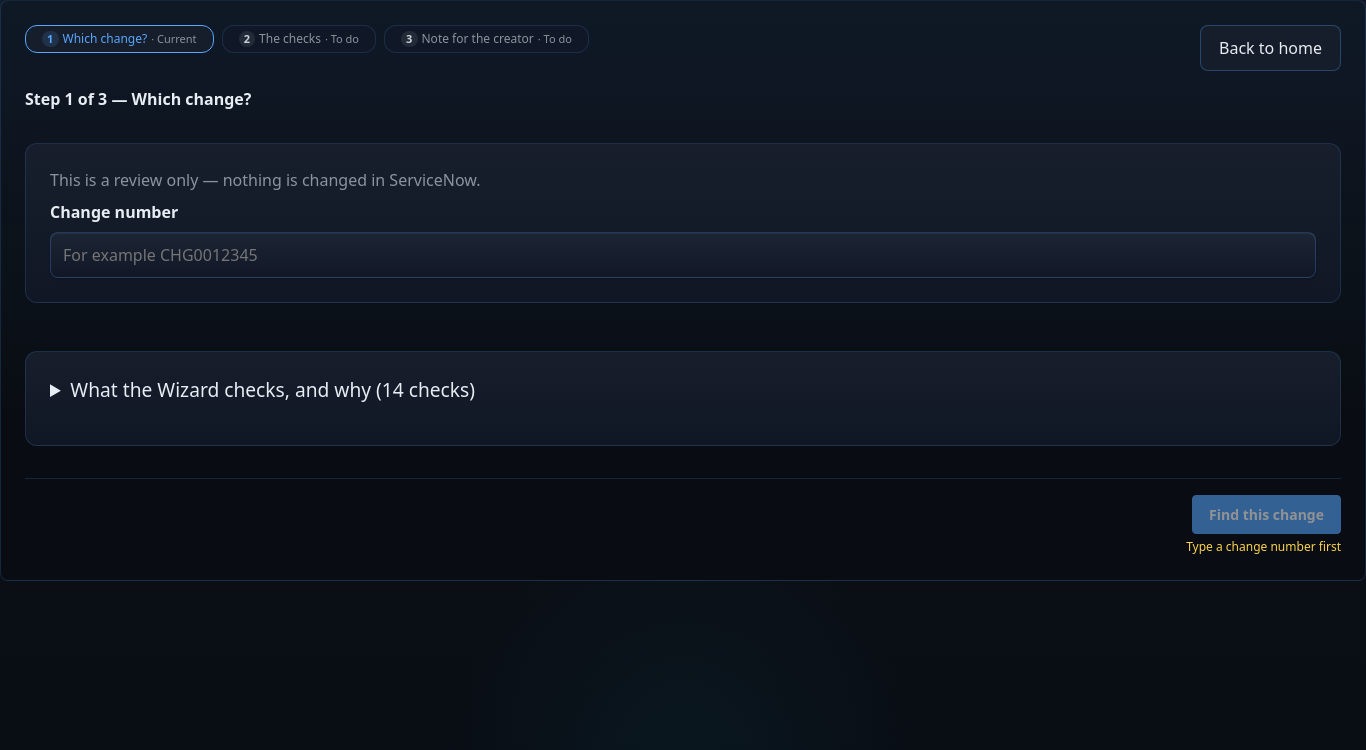
it: ReviewWizard › shows every check with its verdict in words, and offers no fix
This screenshot has width=1366, height=750.
Type " CHG0012345 " into the field labelled "Change number".
click(683, 255); type(" CHG0012345 ")  # box [50, 232, 1316, 278]
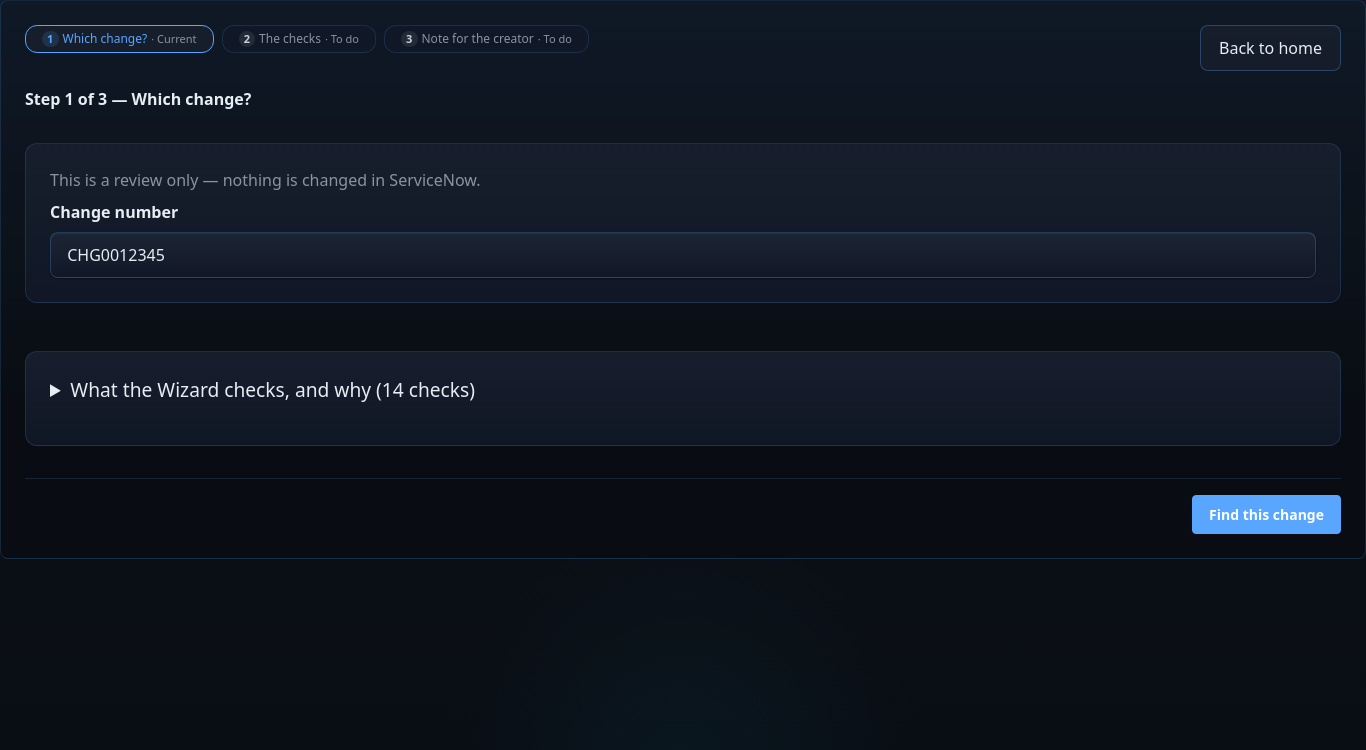
Click the button "Find this change".
click(1266, 514)  # box [1192, 495, 1341, 534]
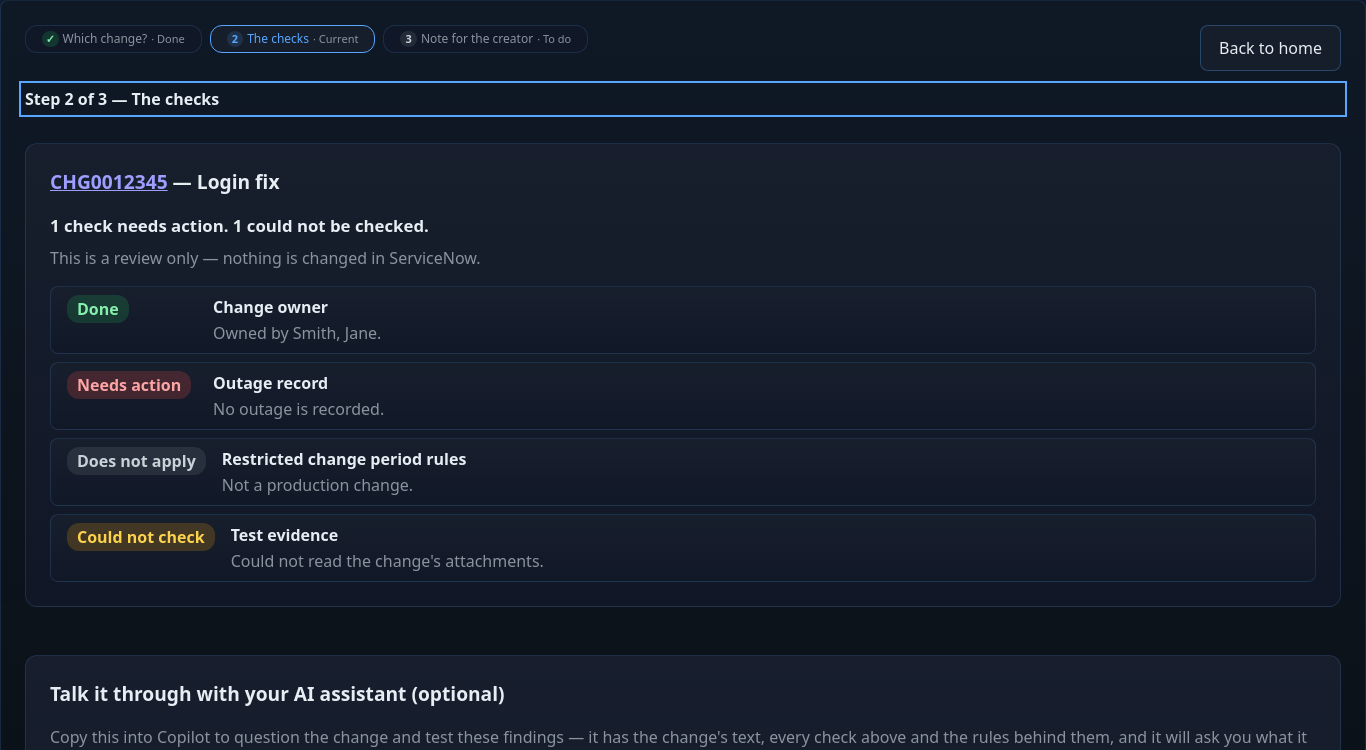
Check: the text "Change owner" is shown, box [213, 296, 328, 318]
Check: the text "Done" next to "Which change?" is shown, box [157, 31, 185, 46]
Check: the text "Needs action" is shown, box [67, 371, 191, 399]
